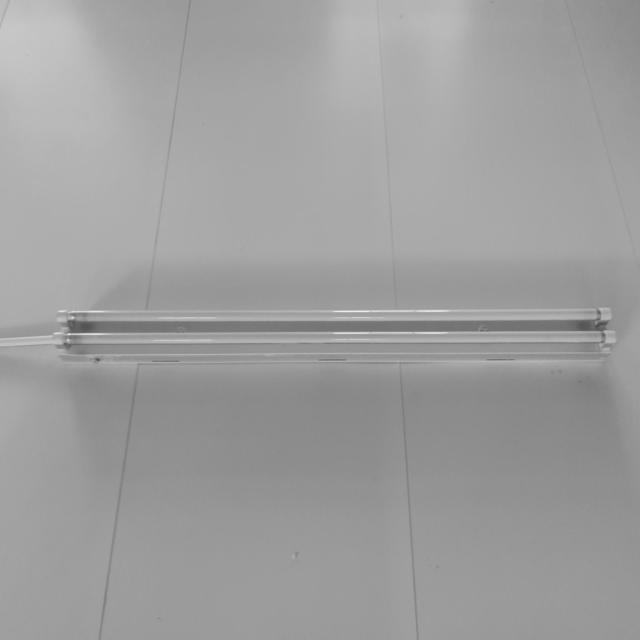light: (53, 306, 616, 364)
